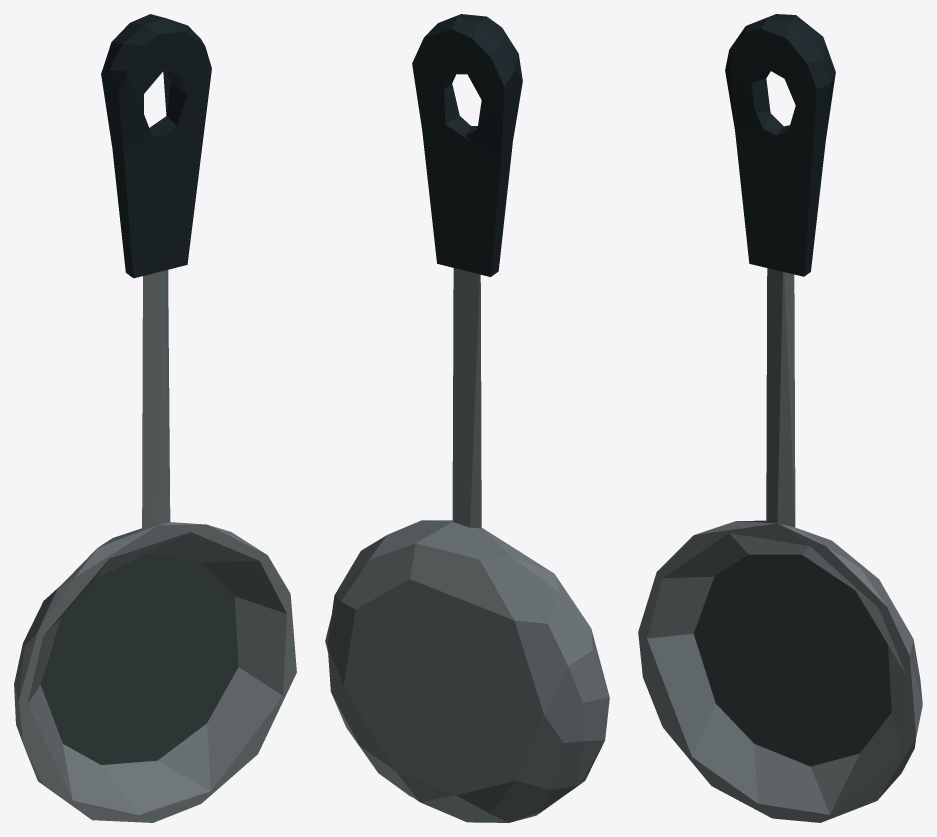
Rendered from SlottedSpoon.fbx.
The picture shows the model from 3 angles, left to right: view 1: azimuth 30°, elevation 25°; view 2: azimuth 150°, elevation 25°; view 3: azimuth 330°, elevation 25°; orthographic projection.
Parts seen in each view (by area): view 1: SlottedSpoonLowPoly; view 2: SlottedSpoonLowPoly; view 3: SlottedSpoonLowPoly.
Boxes of the visible parts, box(x1,y1,x2,y2) form: SlottedSpoonLowPoly: box(14, 14, 296, 822); SlottedSpoonLowPoly: box(325, 14, 609, 822); SlottedSpoonLowPoly: box(638, 14, 922, 822).
Size of the model in its own units: 10.77 by 29.39 by 2.42.
